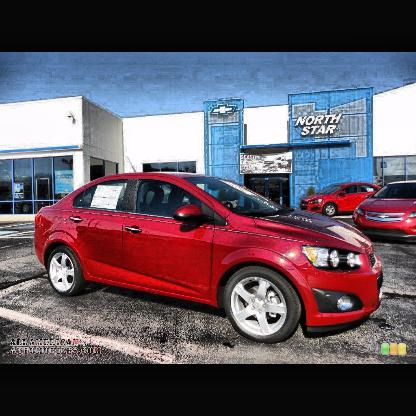Chevrolet Sonic Sedan 2012: (34, 173, 385, 344)
